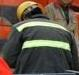gloves: (0, 1, 1, 1)
hard-hat: (0, 0, 37, 29)
vest: (0, 0, 1, 1)
